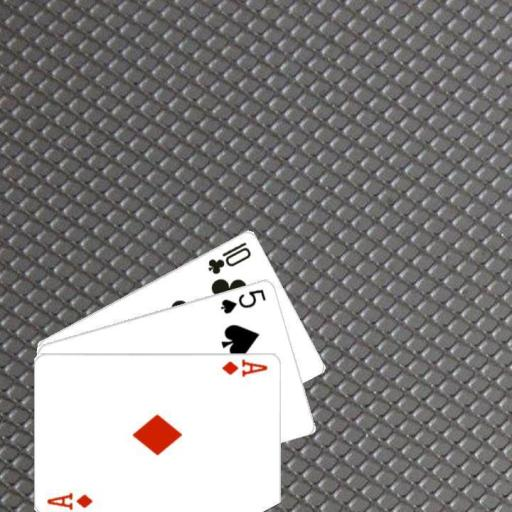card-corner: (204, 238, 253, 275), (218, 285, 268, 315), (219, 356, 269, 378), (44, 488, 94, 510)
